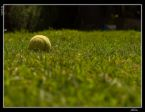tennis ball: (29, 35, 53, 52)
